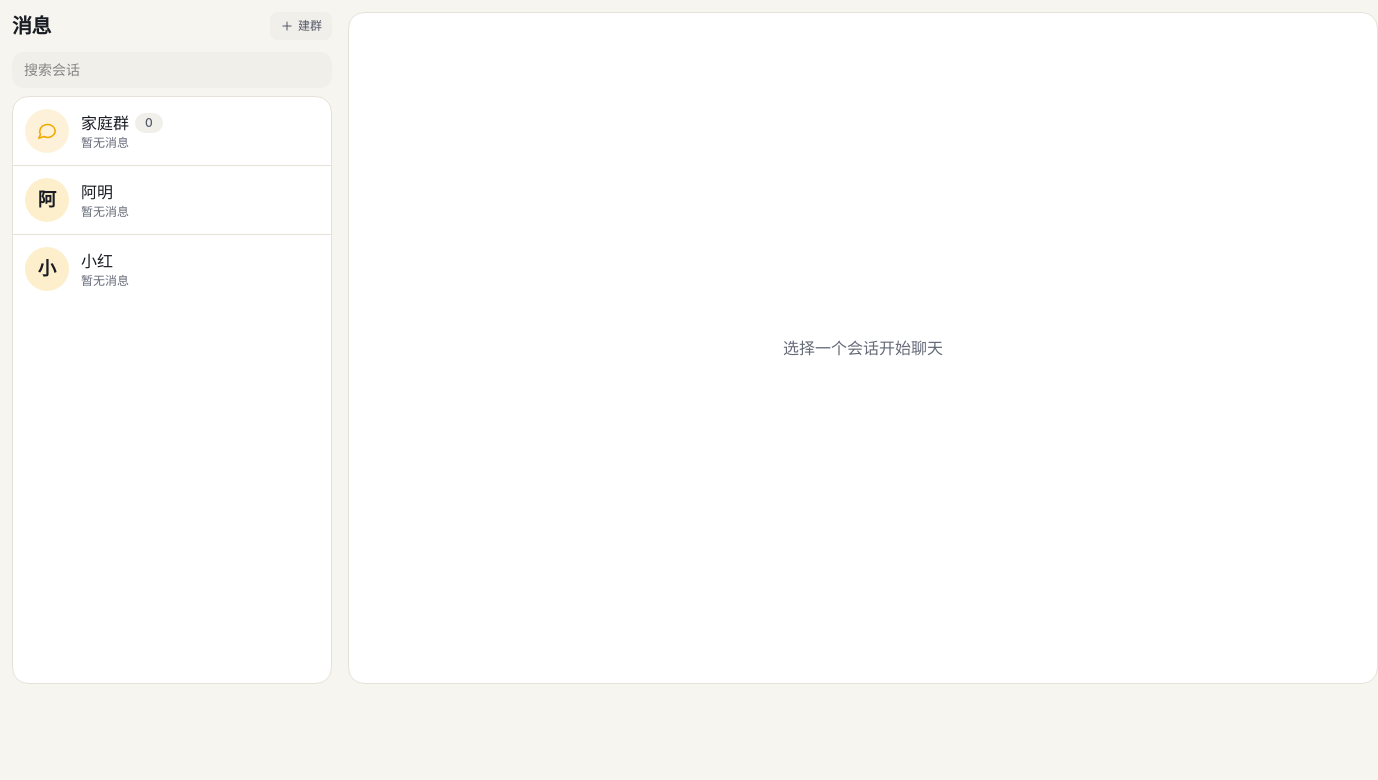
ChatPage 会话列表按名字搜索过滤 › 无匹配 → 提示"没有匹配的会话"（而非空白误导为无会话）
Expected: the text "阿明" is shown, 81,180 -> 113,204
Type "查无此人zzz" into the search field labelled "搜索会话" at (172,70), box 12,52 -> 332,88
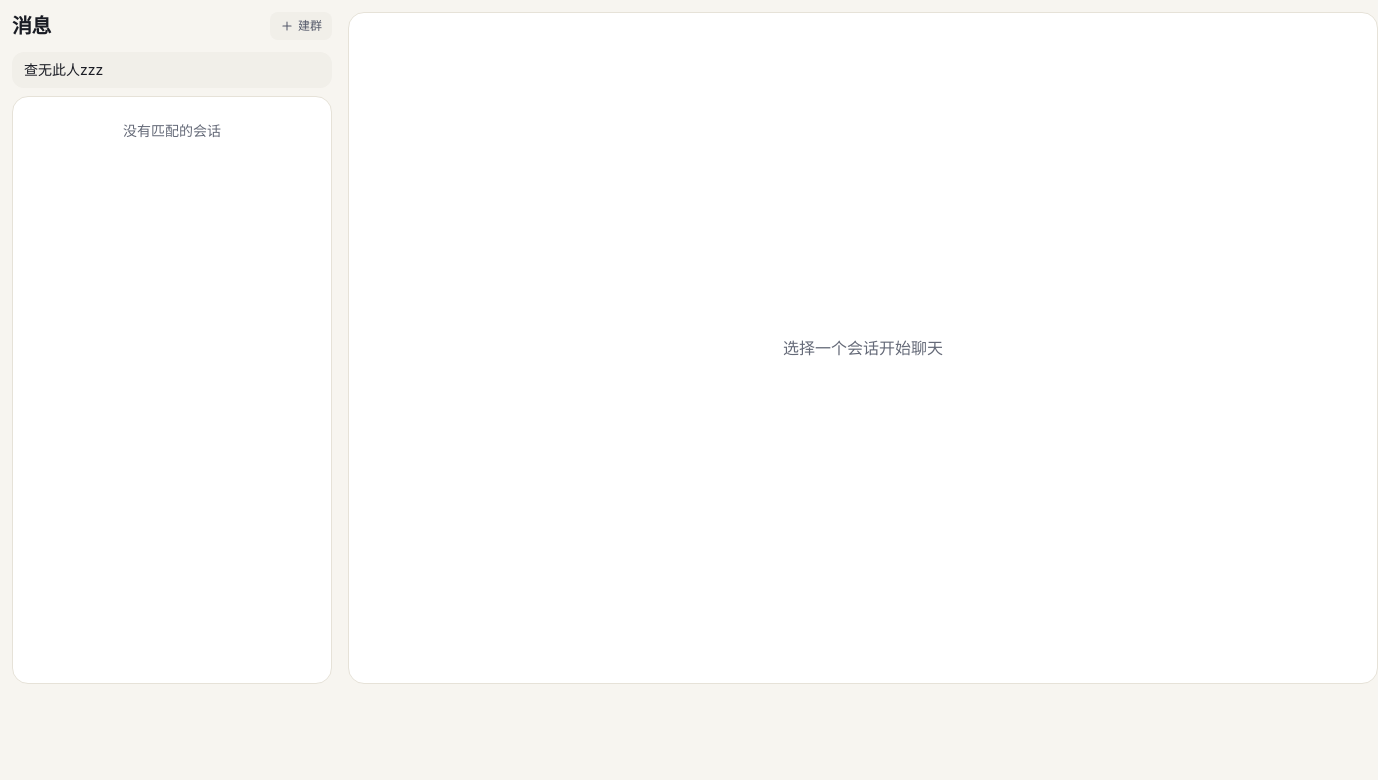
Result: the text "没有匹配的会话" is shown at 123,122 -> 221,139
Result: the button "阿明" is gone
